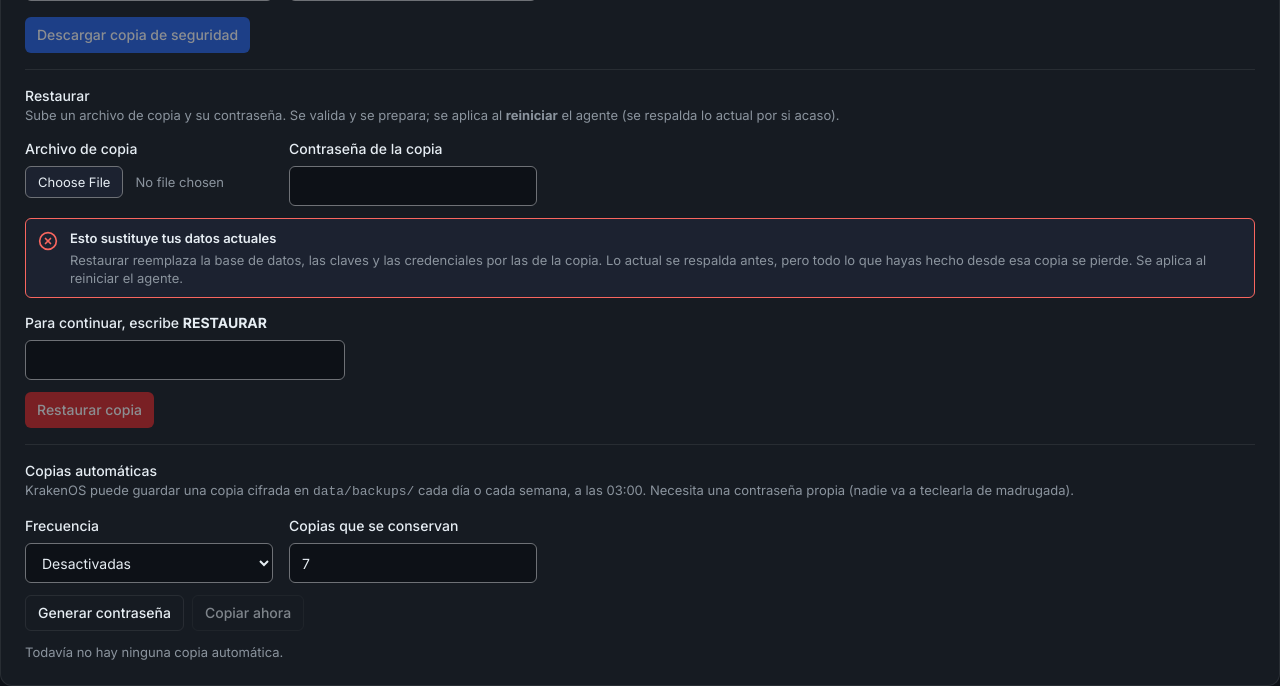
Test case: SystemBackupCard: recarga fallida con el estado ya leído › conserva el estado y lo marca como viejo
(page scrolled)
Expected: the text "Datos obsoletos" is not shown
Select "Cada día" in the dropdown labelled "Frecuencia" at coordinates (149, 563), box [25,543,273,583]
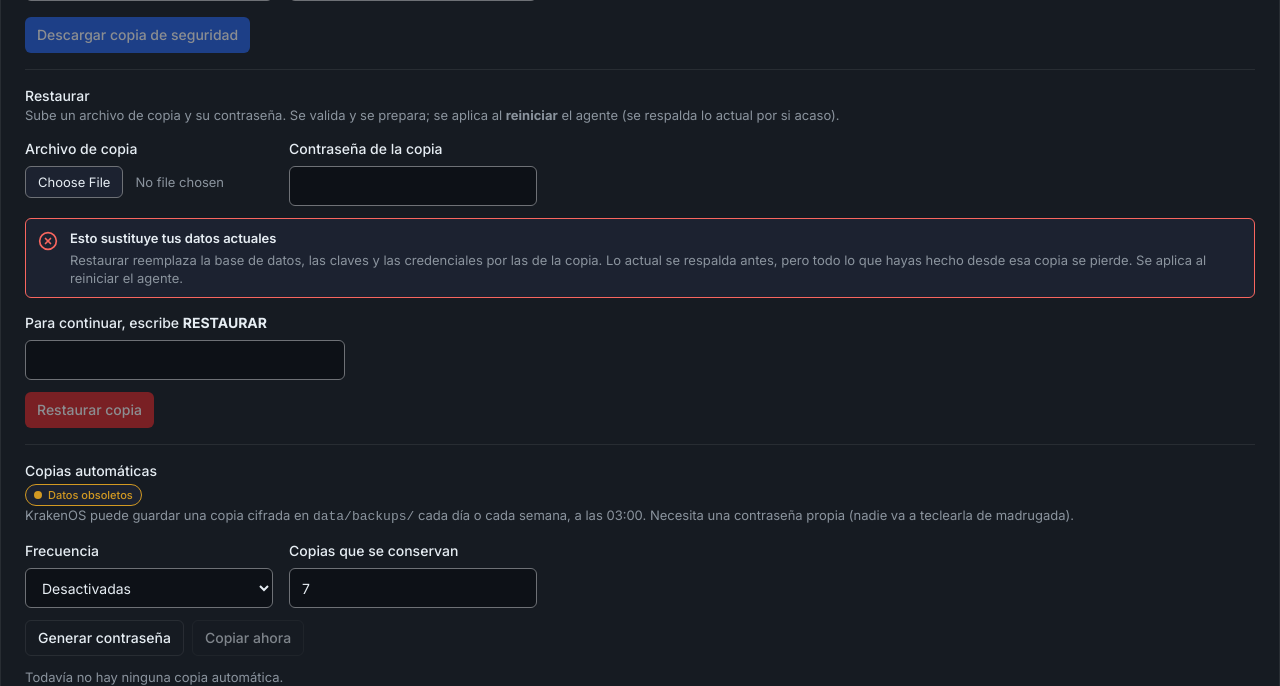
Result: the text "Datos obsoletos" is shown at [25,484,142,506]
